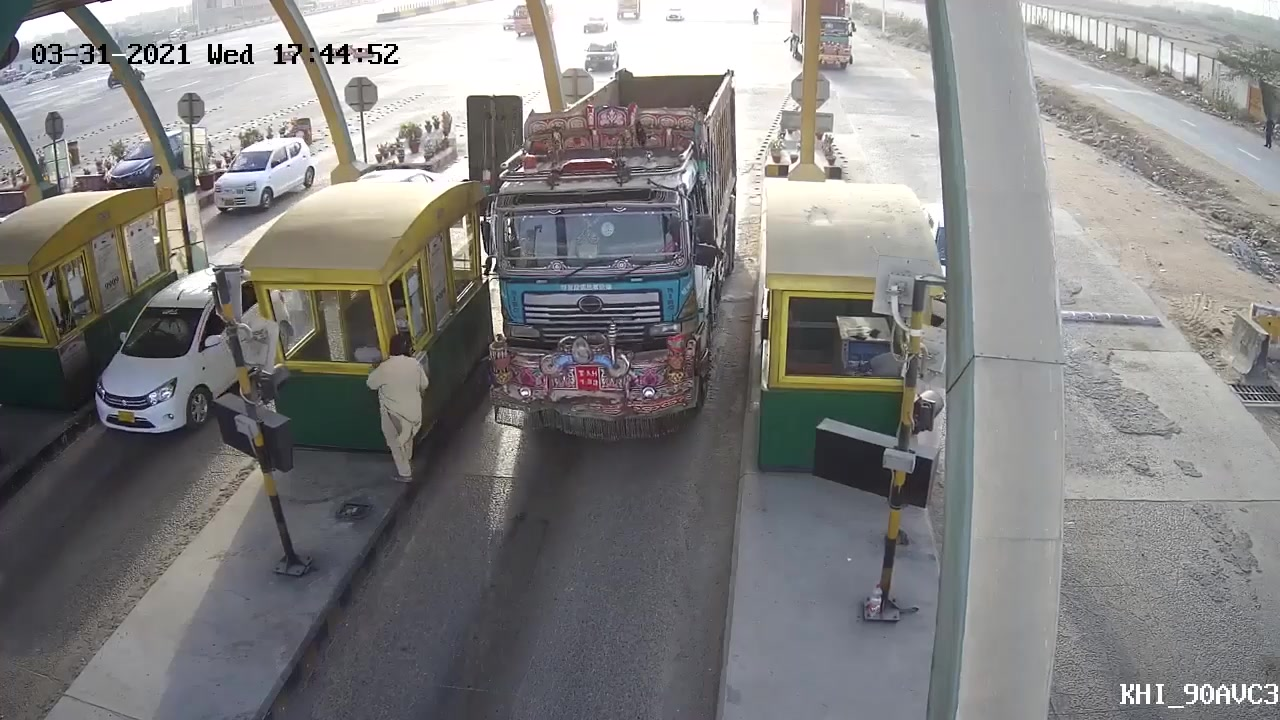F5: (477, 113, 731, 452)
